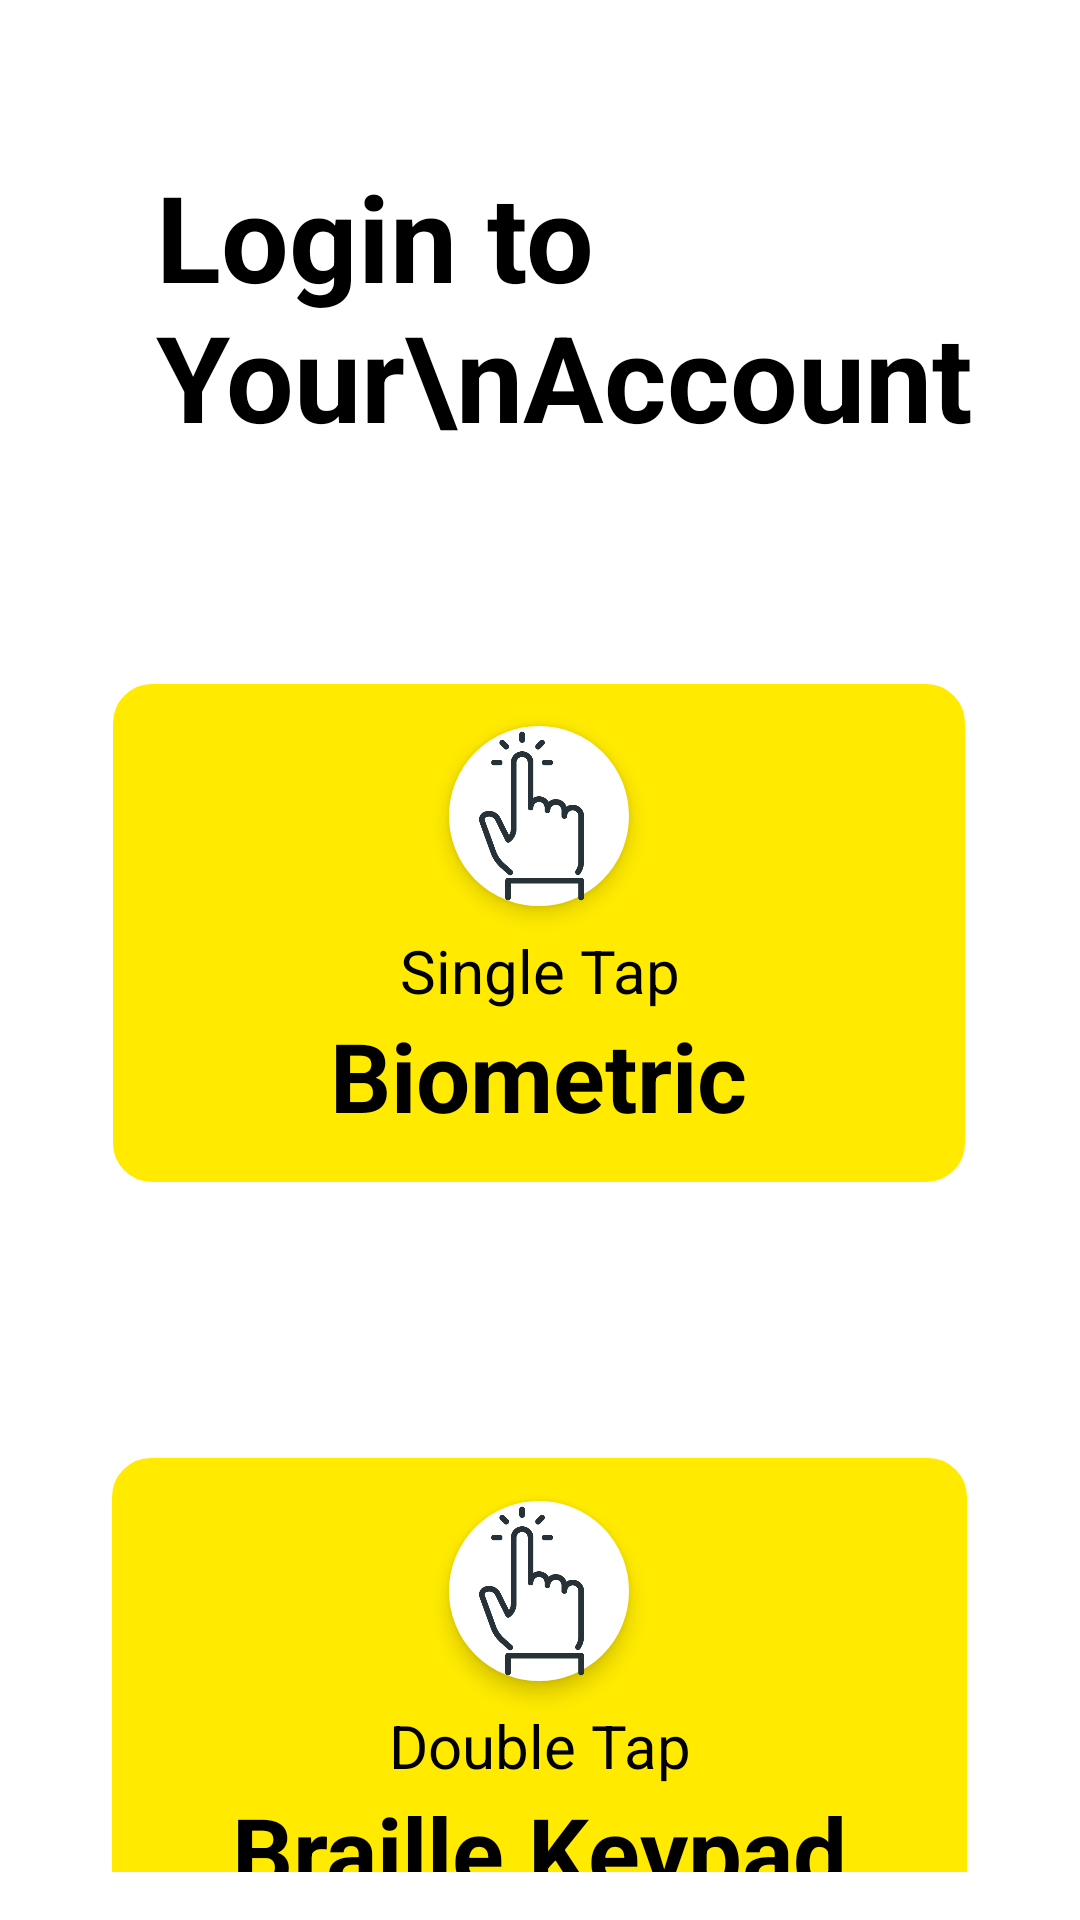

Screen size 1080px×1920px. Icon name, then its box in pixels as detection(x1, y1, x2, y2):
hand: detection(449, 726, 629, 906), detection(449, 1501, 629, 1681)
